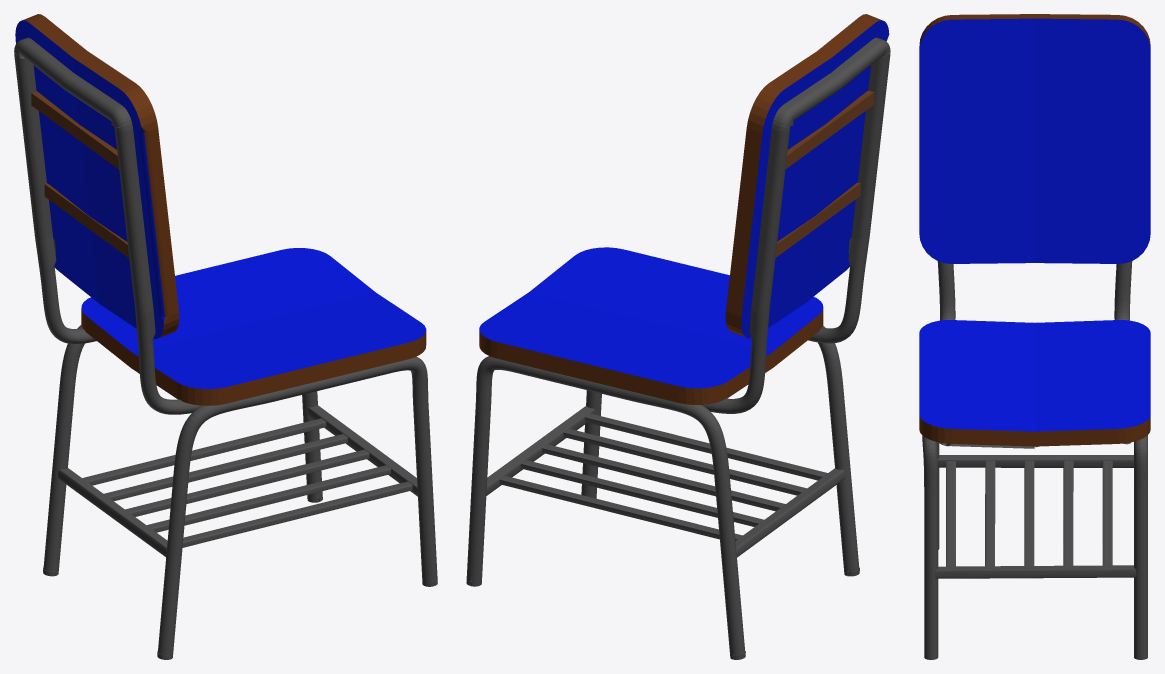
The model's file is Silla3.fbx.
3 views of the same model, side by side, from view 1: azimuth 30°, elevation 25°; view 2: azimuth 150°, elevation 25°; view 3: azimuth 270°, elevation 25° (orthographic). The views are drawn at different scales.
Visible parts, largest first — view 1: Cube; view 2: Cube; view 3: Cube.
Part boxes in pixels (x1,y1,x2,y2): Cube: (14, 14, 437, 659); Cube: (466, 14, 890, 659); Cube: (919, 14, 1150, 659).
Size of the model in its own units: 289 by 497 by 200.
